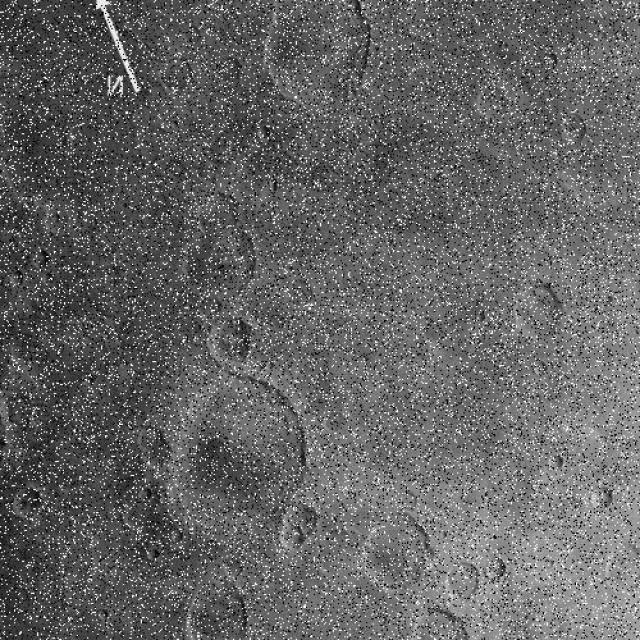crater: (171, 373, 305, 520), (262, 0, 372, 104), (360, 511, 434, 591), (182, 228, 254, 302), (184, 577, 252, 640), (514, 281, 562, 340), (195, 189, 241, 235), (606, 542, 640, 591), (159, 57, 193, 94), (446, 560, 478, 598), (478, 85, 508, 120), (13, 485, 43, 519), (285, 277, 313, 309), (561, 113, 587, 144), (483, 556, 508, 582), (217, 57, 241, 84), (590, 486, 612, 511)
